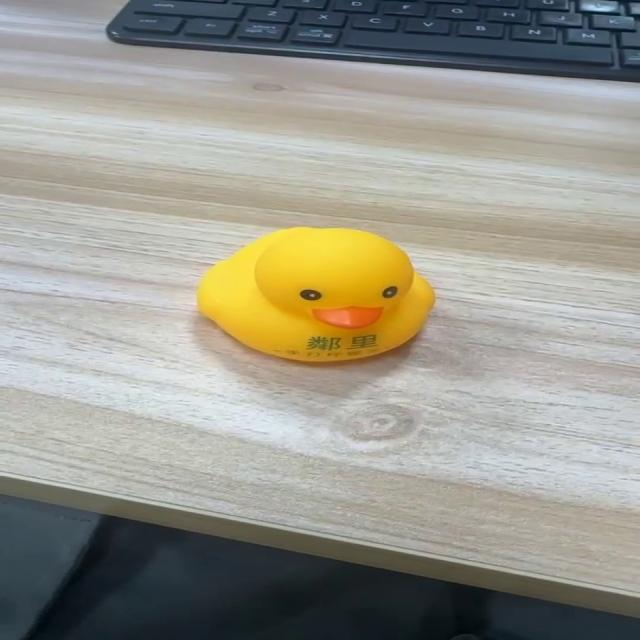yellow_duck: (195, 225, 436, 362)
